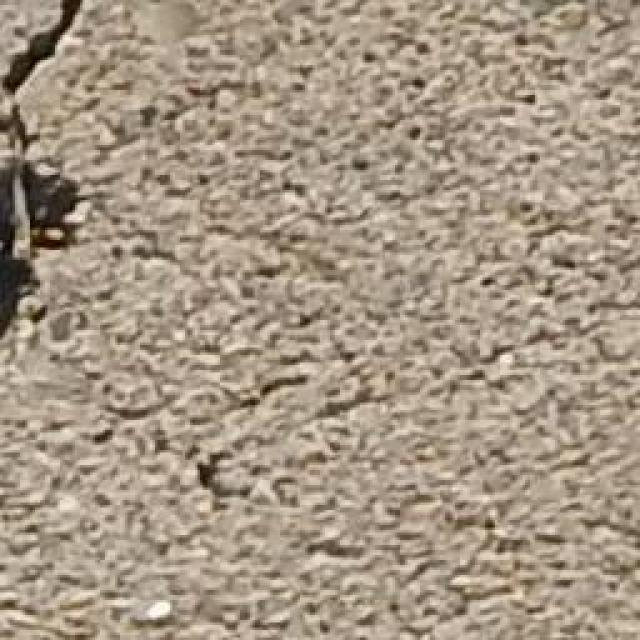concrete-crack: (2, 0, 97, 361)
